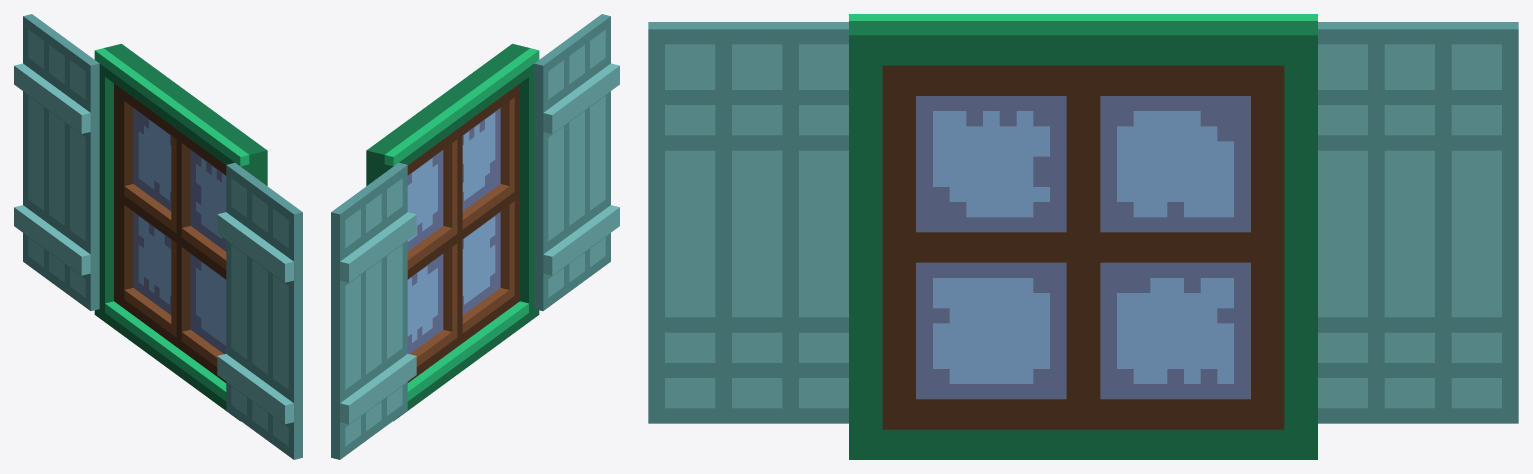
Rendered from window_textured_small_blue_green.glb.
3 views of the same model, side by side, from view 1: azimuth 30°, elevation 25°; view 2: azimuth 150°, elevation 25°; view 3: azimuth 270°, elevation 25° (orthographic). The views are drawn at different scales.
Visible parts, largest first — view 1: window_textured_small_blue_green; view 2: window_textured_small_blue_green; view 3: window_textured_small_blue_green.
Boxes of the visible parts, bbox=[...] form: window_textured_small_blue_green: bbox=[14, 14, 302, 459]; window_textured_small_blue_green: bbox=[331, 14, 619, 459]; window_textured_small_blue_green: bbox=[648, 14, 1518, 459].
Bounding box in the file's own units: 0.5 × 2.8 × 5.2.
Materials: 1 (1 with a texture image).
